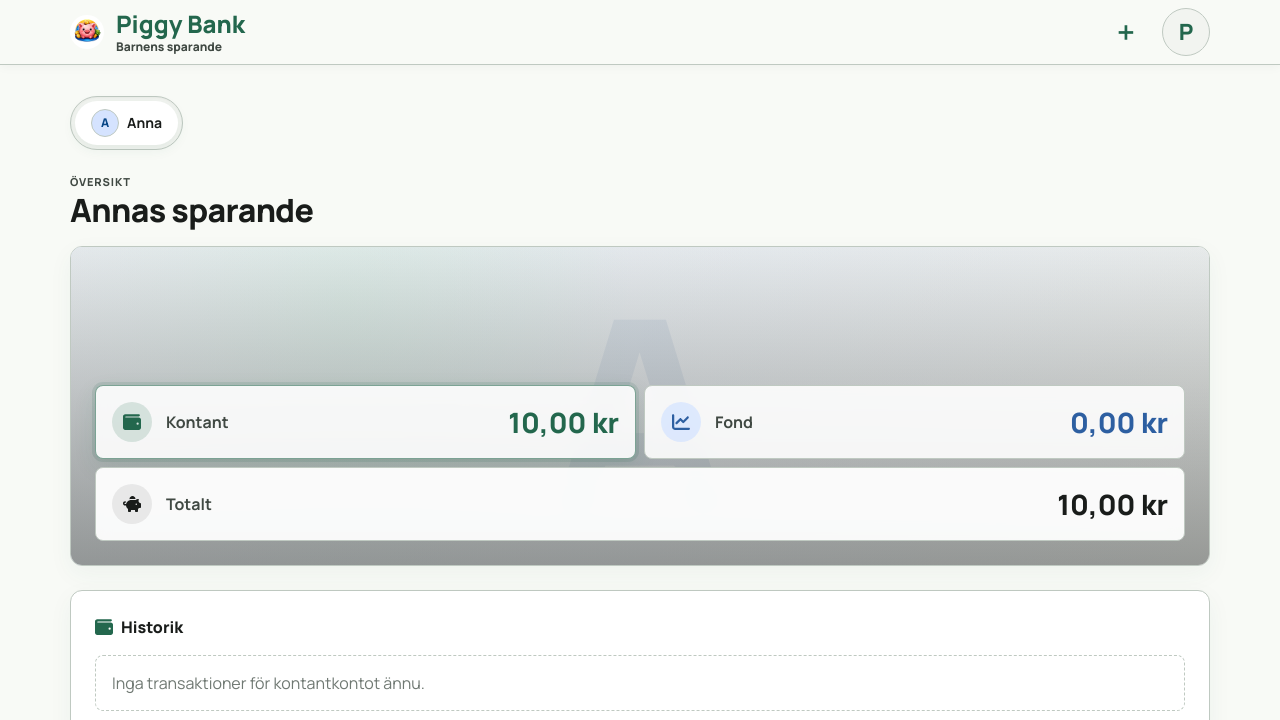
App › refreshes balance cards when transaction history is reloaded
Expected: the element named "Totalt sparande 10,00 kr" is shown, x1=95 y1=467 x2=1185 y2=541
Click the button named "Fond0,00".
click(681, 422)  # box x1=644 y1=385 x2=1185 y2=459
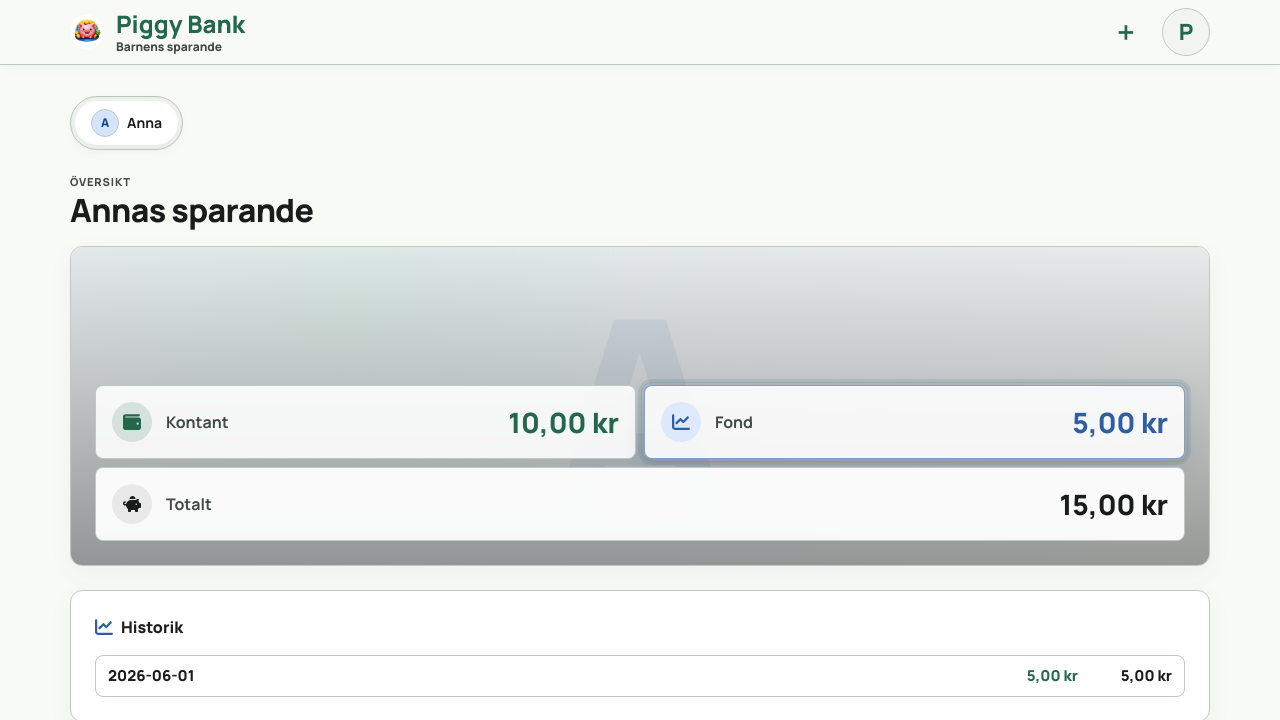
Expected: the element named "Totalt sparande 15,00 kr" is shown, x1=95 y1=467 x2=1185 y2=541
